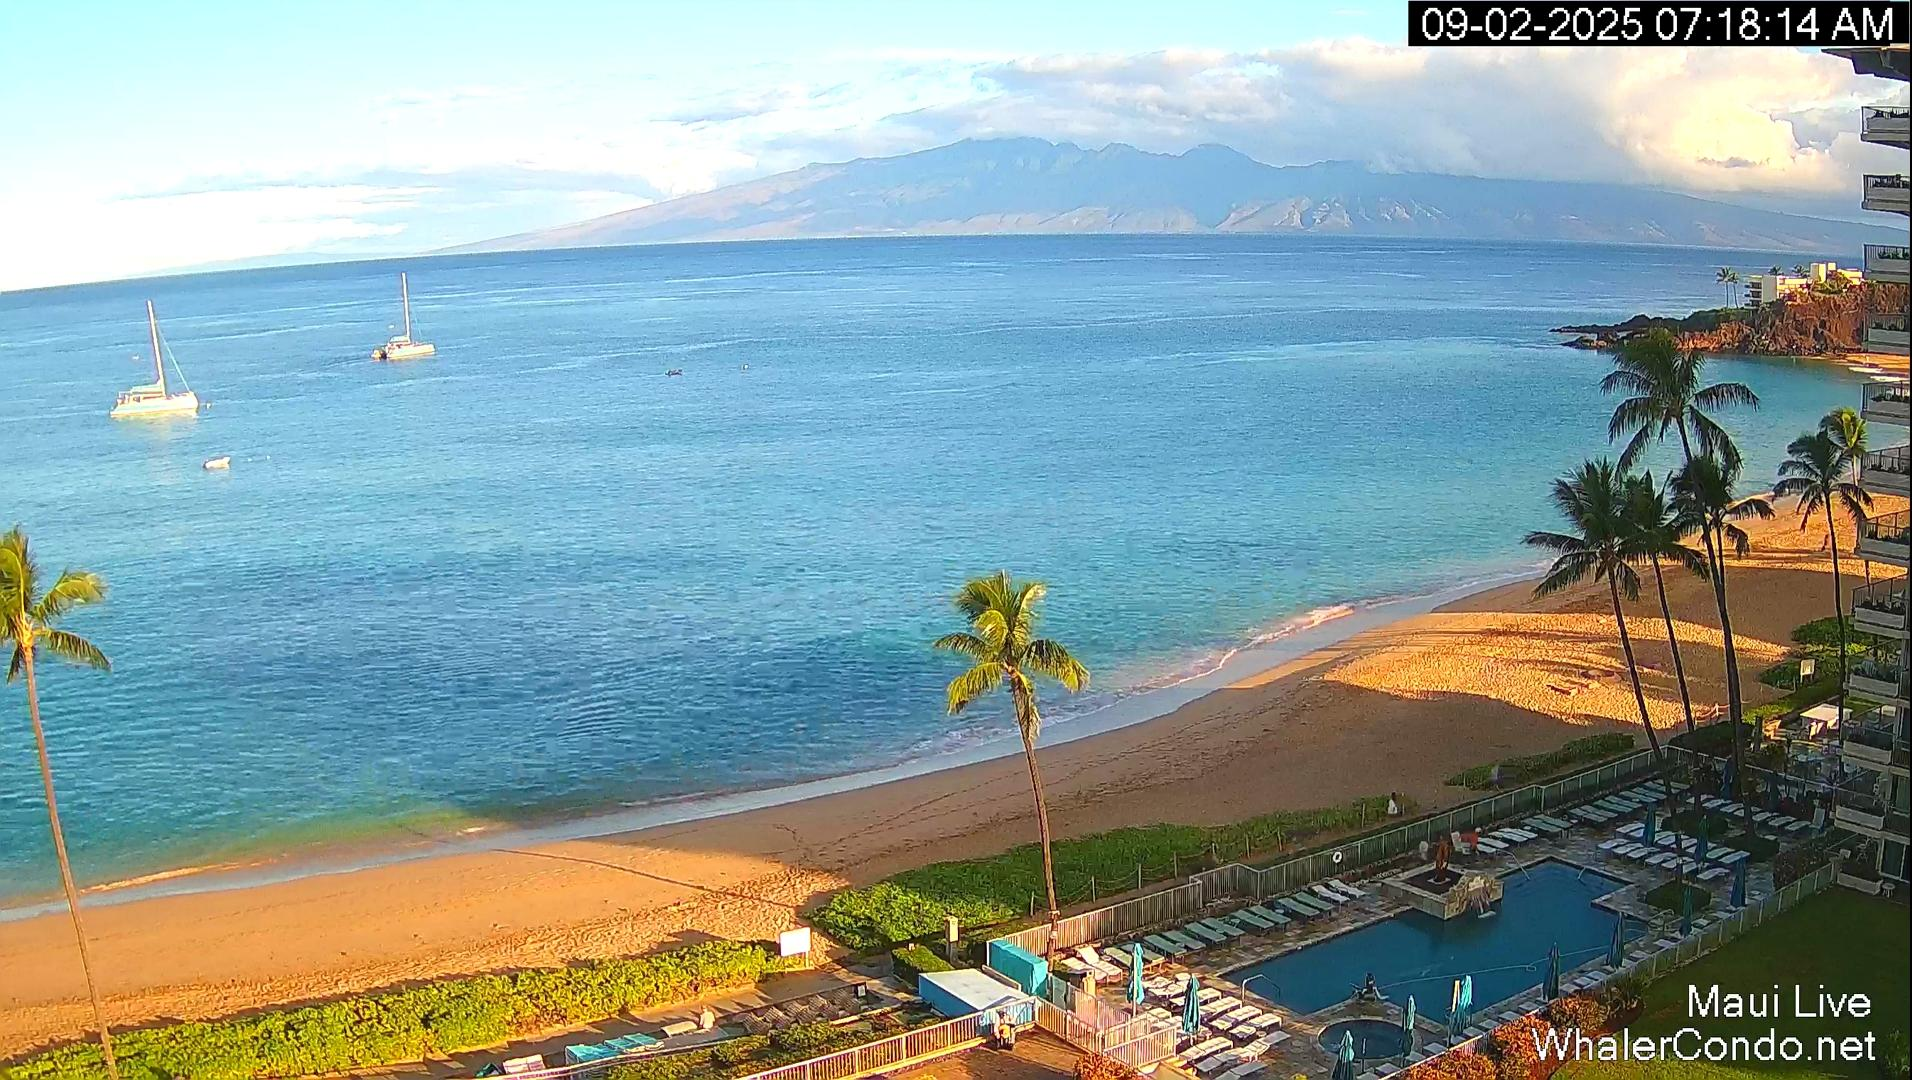boat: (109, 298, 200, 418), (370, 272, 436, 362), (204, 455, 232, 471), (665, 367, 685, 377)
person: (1458, 828, 1479, 860), (698, 1004, 714, 1030), (1387, 793, 1399, 823), (1821, 532, 1831, 555)
